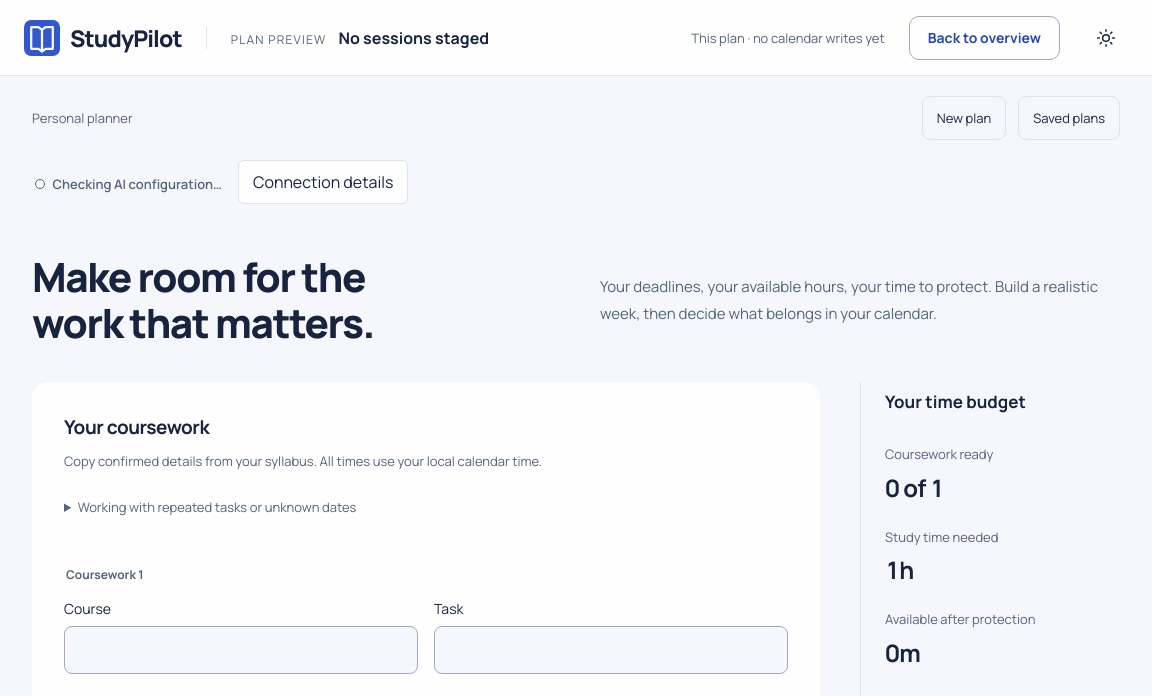
Scenario: retries a failed history request without creating a record
Click the button "Saved plans" at (1069, 118), box [1018,96,1120,140]
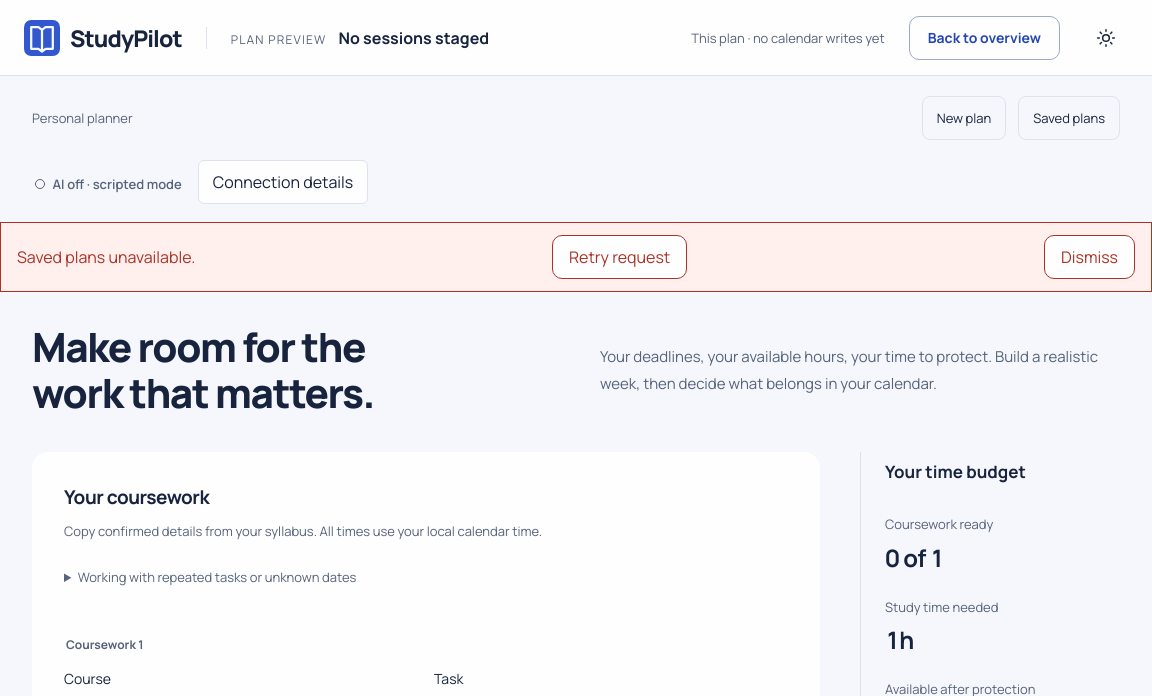
Click the button "Retry request" at (620, 257), box [552,235,687,279]
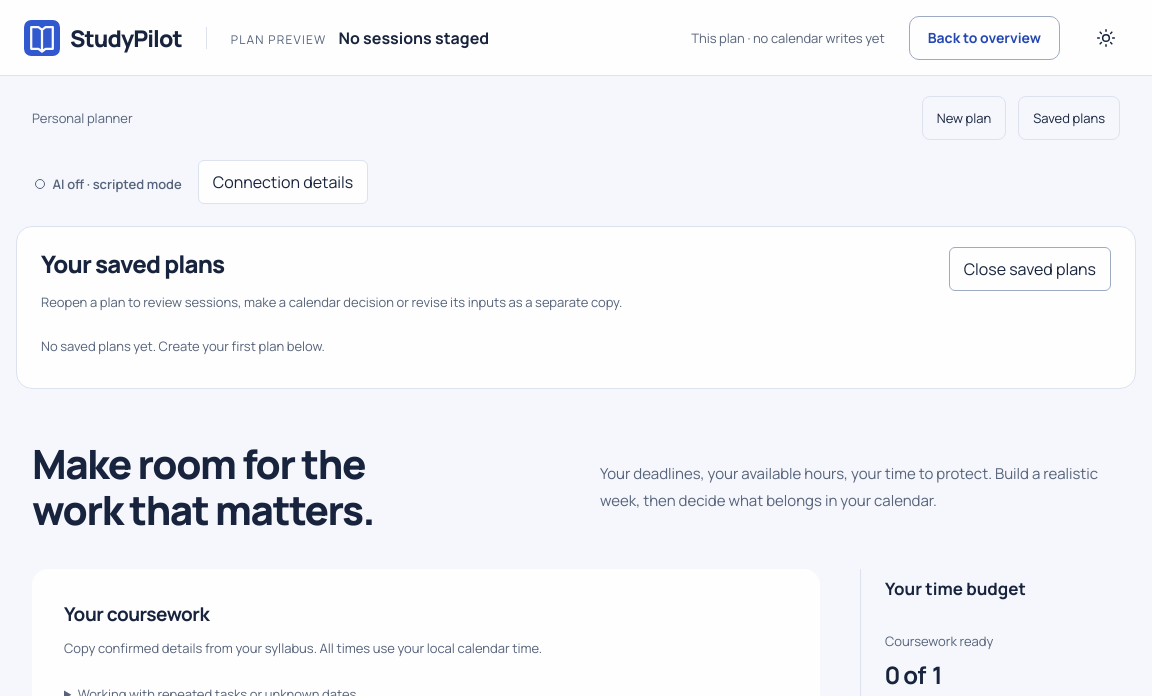
expect the button "Retry request" is gone: met
